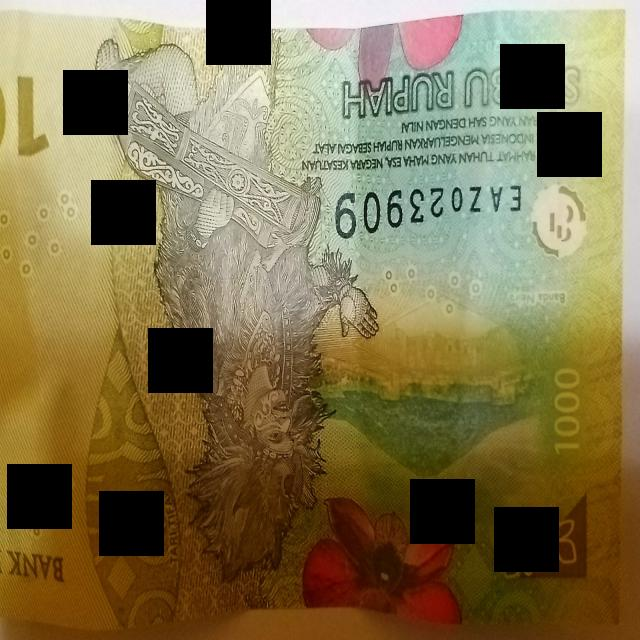seribu rupiah: (0, 12, 624, 628)
